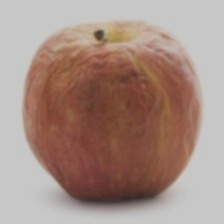apple: (26, 38, 166, 196)
